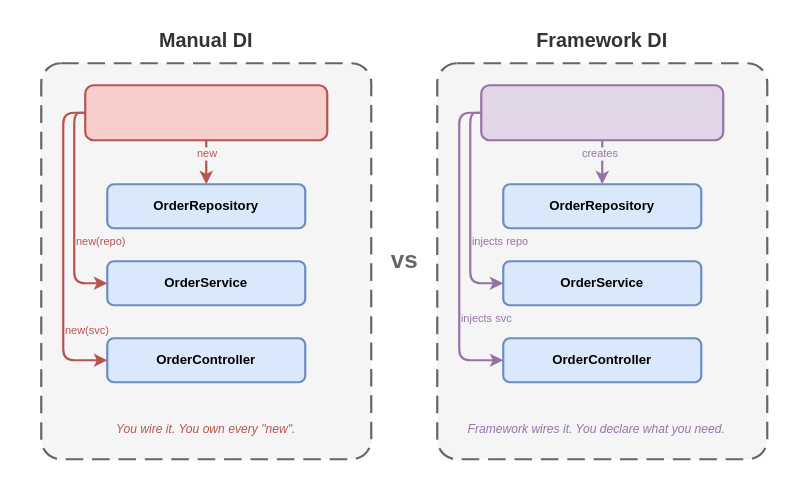
Some shapes in this 807 by 499 pixel diagram are drawn without their labels. The shapes that lost their labels are listed below. From the top down, each one's centre as x and y in pixels, then its label:
At [206,112]: "main() YOU create and wire everything".
At [602,112]: "DI Container Spring / FastAPI / NestJS".
